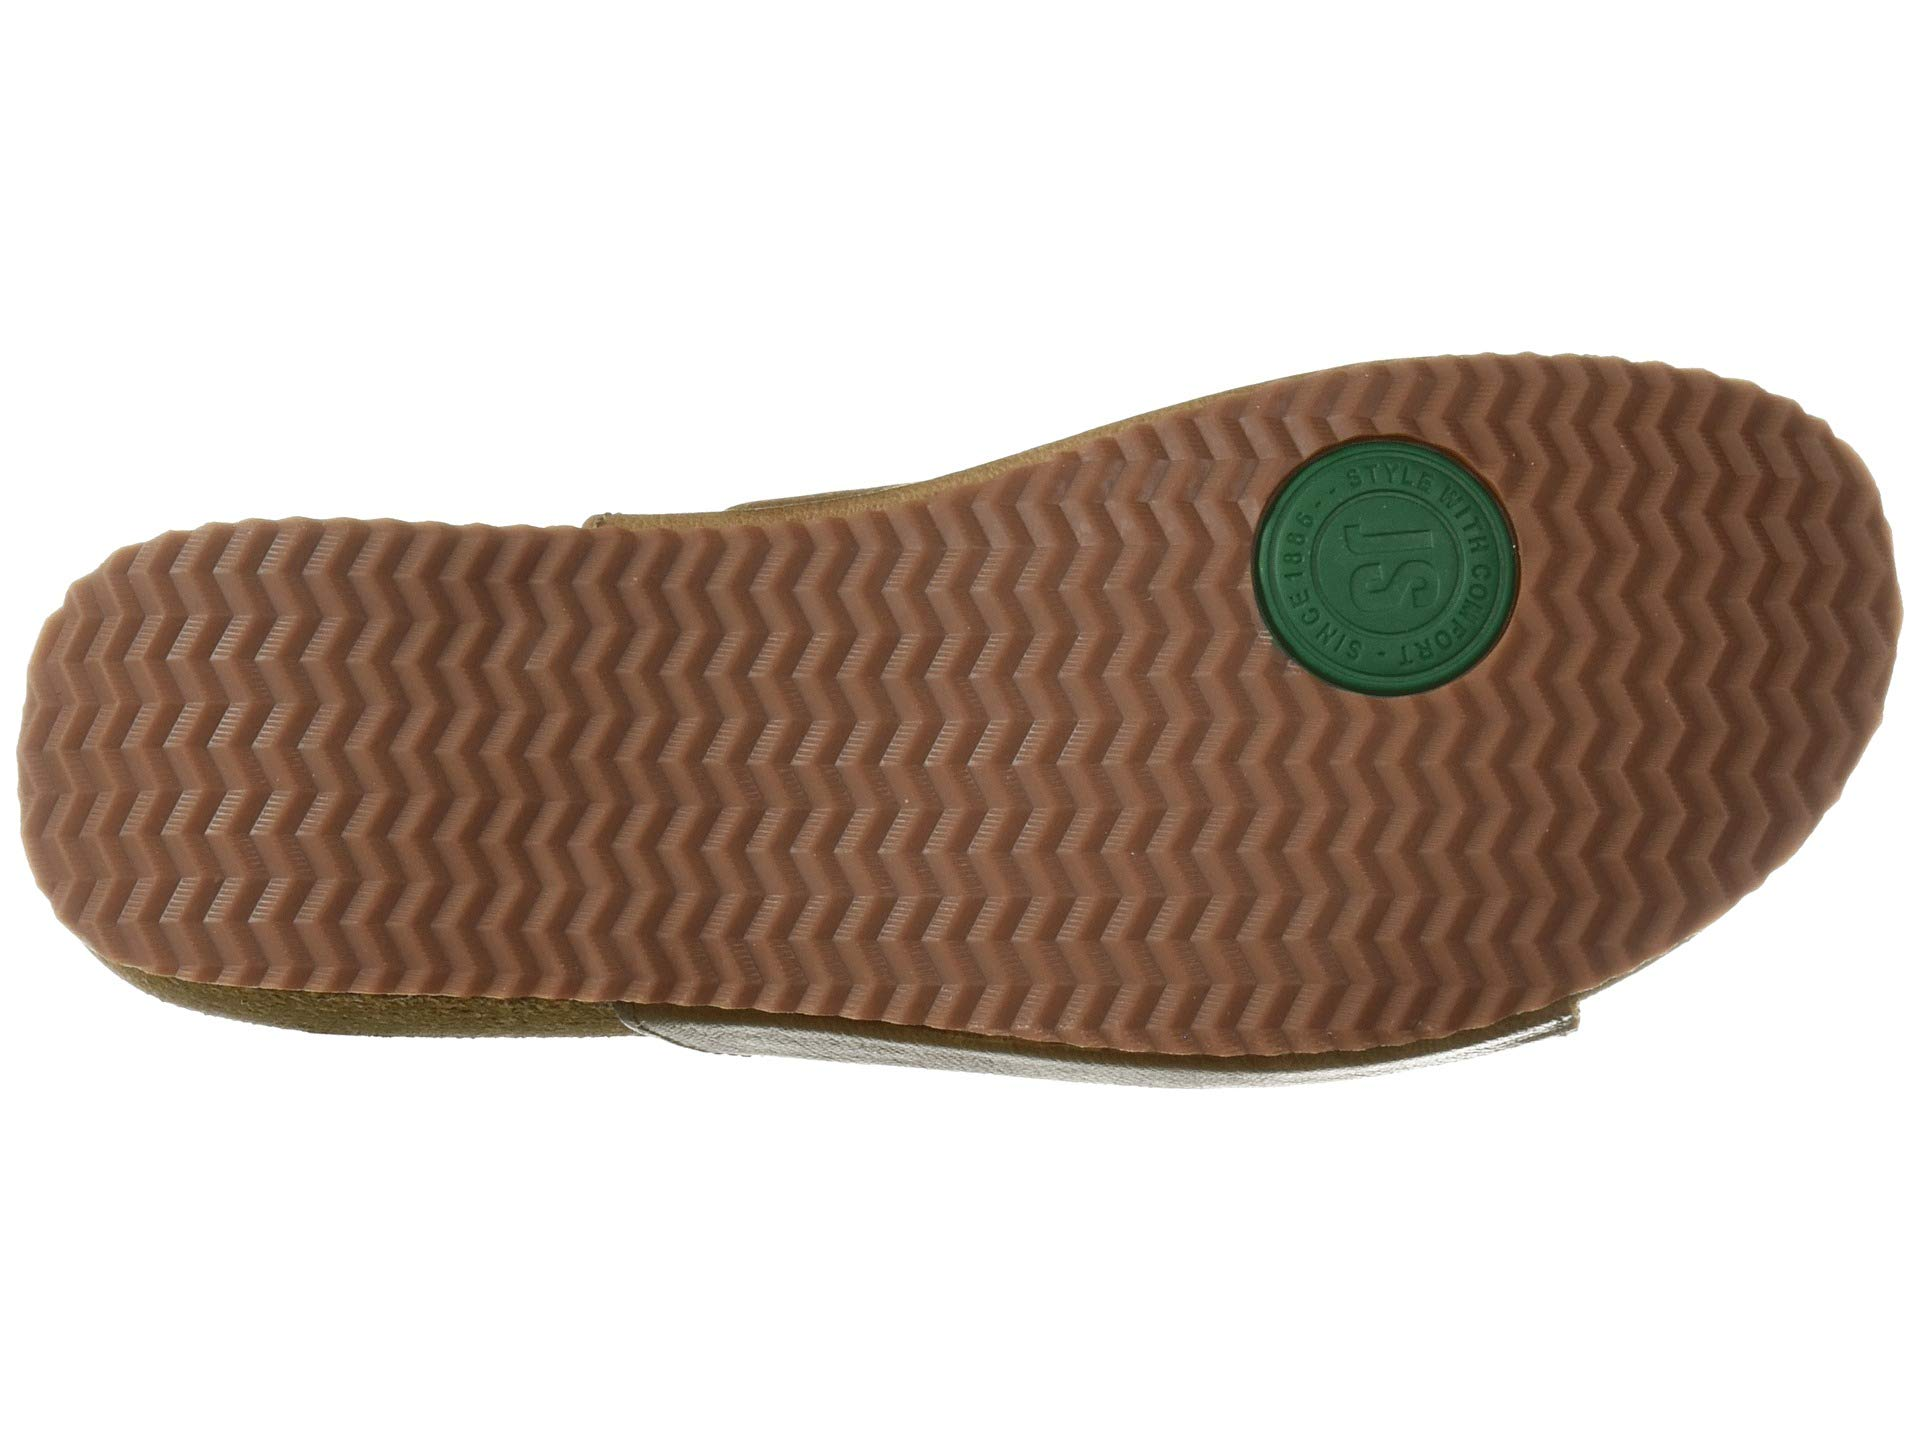chevron: (550, 596, 996, 976), (1258, 413, 1562, 725)
circle: (1258, 413, 1562, 725)
text: (1258, 413, 1562, 725)
